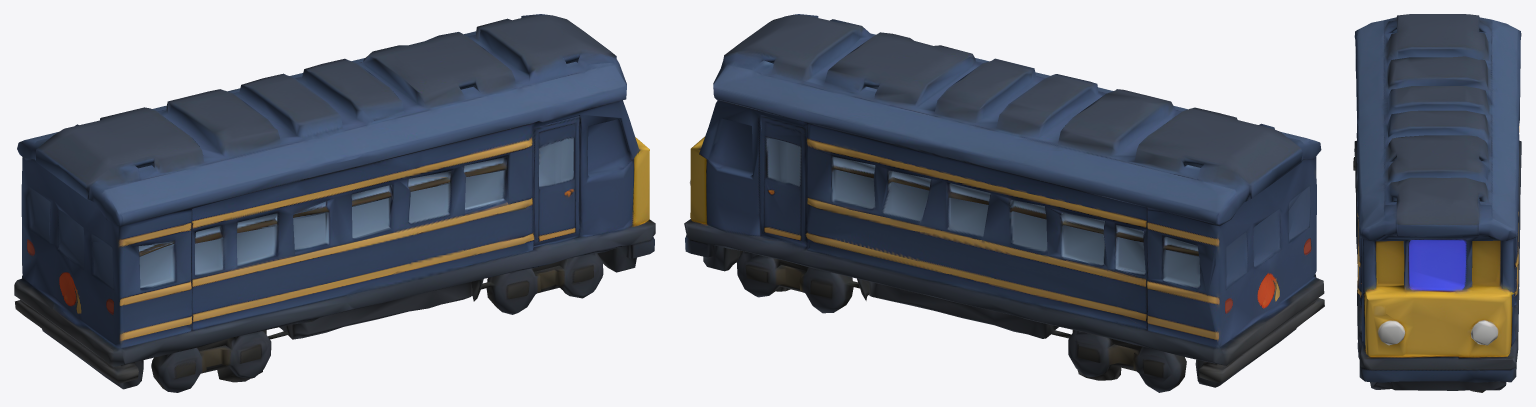
The model's file is train.glb.
The picture shows the model from 3 angles, left to right: view 1: azimuth 30°, elevation 25°; view 2: azimuth 150°, elevation 25°; view 3: azimuth 270°, elevation 25°; orthographic projection. The views are drawn at different scales.
Visible parts, largest first — view 1: tripo_node_62bca0a9-c3ef-44a6-8b98-81072def2fd6; view 2: tripo_node_62bca0a9-c3ef-44a6-8b98-81072def2fd6; view 3: tripo_node_62bca0a9-c3ef-44a6-8b98-81072def2fd6.
Boxes of the visible parts, box(x1,y1,x2,y2) form: tripo_node_62bca0a9-c3ef-44a6-8b98-81072def2fd6: box(14, 14, 655, 392); tripo_node_62bca0a9-c3ef-44a6-8b98-81072def2fd6: box(684, 14, 1324, 392); tripo_node_62bca0a9-c3ef-44a6-8b98-81072def2fd6: box(1353, 14, 1521, 392).
Bounding box in the file's own units: 1 × 0.4043 × 0.3252.
Materials: 1 (1 with a texture image).
